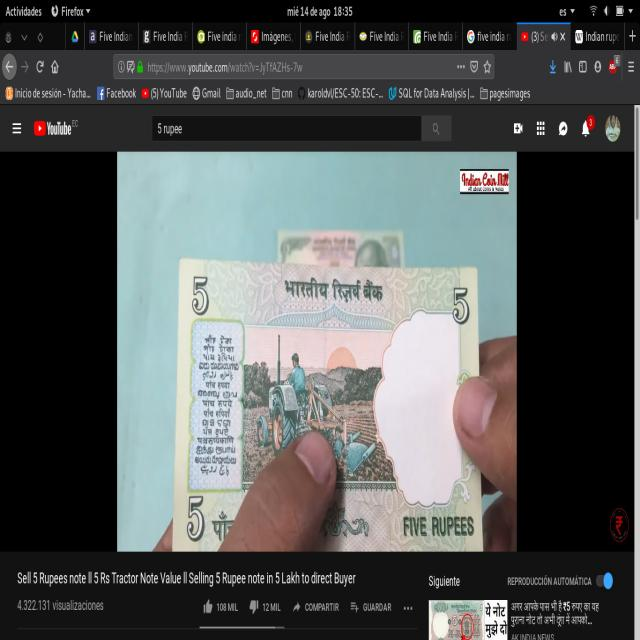5IndianRupees: (180, 265, 478, 540)
